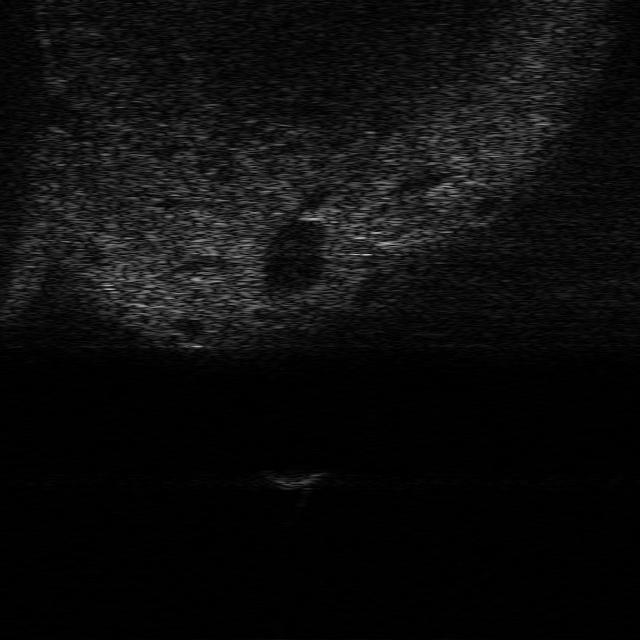cube: (256, 468, 329, 494)
